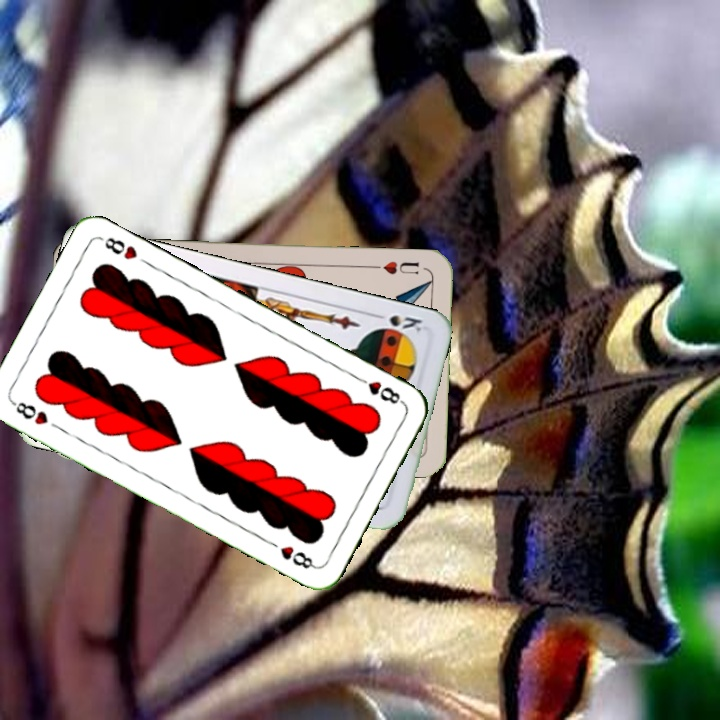H8: (352, 372, 407, 407), (8, 397, 51, 428)
HU: (368, 257, 421, 277)
SK: (368, 309, 425, 335)
